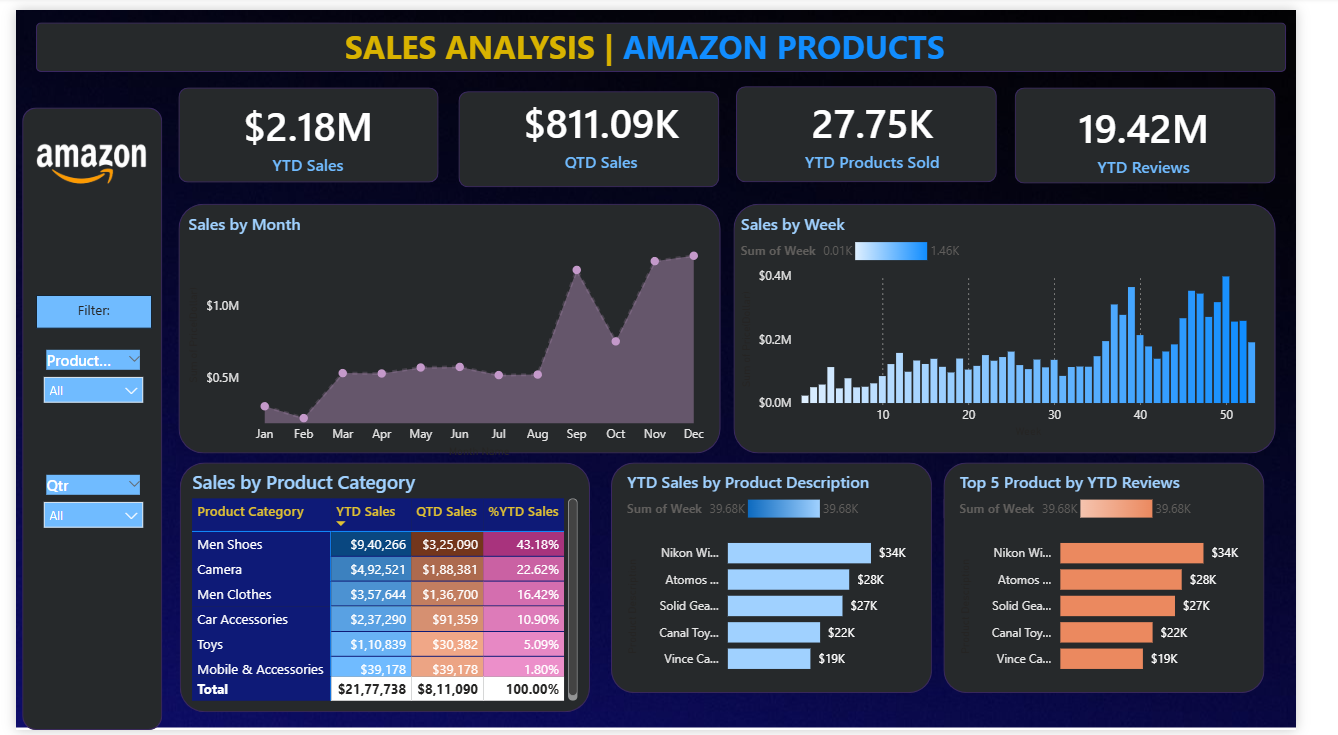

This screenshot's page, from the dashboard's own definition file:
{"tool":"powerbi","page":{"name":"Page 1","canvas":[1280,720],"ordinal":0},"visuals":[{"type":"shape","box":[20.6,12.3,1250.1,49.4],"z":0},{"type":"shape","box":[162.9,77.1,260,95],"z":1000,"group":"g1"},{"type":"textbox","box":[323.8,9.6,946.8,52.1],"z":1000},{"type":"shape","box":[442.4,80.8,260.7,96.1],"z":1500,"group":"g1"},{"type":"card","fields":{"Values":["Amazon_Data.YTD Sales"]},"box":[162.9,78.4,259.3,94.7],"z":2000,"group":"g1"},{"type":"shape","box":[6,97.7,139.9,622.5],"z":2000},{"type":"shape","box":[719.8,75.7,260.7,96.1],"z":3000,"group":"g1"},{"type":"group","id":"g1","title":"Group 1","box":[162.9,75.7,1097.1,100],"z":3000},{"type":"shape","box":[998.6,77.1,260.7,96.1],"z":4000,"group":"g1"},{"type":"shape","box":[161.9,193.5,542,249.7],"z":4000},{"type":"card","fields":{"Values":["Amazon_Data.QTD Sales"]},"box":[478.1,82.6,215.4,81],"z":5000,"group":"g1"},{"type":"areaChart","title":"Sales by Month","fields":{"Category":["date table.Month Name"],"Y":["Amazon_Data.Price(Dollar)"]},"box":[167.4,203.1,531,249.7],"z":5000},{"type":"card","fields":{"Values":["Amazon_Data.YTD Products Sold"]},"box":[749.3,82.6,215.4,81],"z":6000,"group":"g1"},{"type":"shape","box":[717.7,193.5,542,249.7],"z":6000},{"type":"card","fields":{"Values":["Amazon_Data.YTD Reviews"]},"box":[1020.5,86.7,215.4,81],"z":7000,"group":"g1"},{"type":"columnChart","title":"Sales by Week","fields":{"Category":["date table.Week"],"Y":["Amazon_Data.Price(Dollar)"]},"box":[720.4,203.1,528.3,230.5],"z":7000},{"type":"shape","box":[163.3,452.8,410.3,249.7],"z":8000},{"type":"pivotTable","title":"Sales by Product Category","fields":{"Rows":["Amazon_Data.Product Category"],"Values":["Amazon_Data.YTD Sales1","Amazon_Data.QTD Sales","Amazon_Data.YTD Sales"]},"box":[171.5,458.3,395.2,237.4],"z":9000},{"type":"shape","box":[595.5,452.8,321.1,230.5],"z":10000},{"type":"shape","box":[927.6,452.8,321.1,230.5],"z":11000},{"type":"barChart","fields":{"Category":["Amazon_Data.Product Description"],"Y":["Amazon_Data.YTD Sales"]},"box":[606.5,459.7,299.1,215.4],"z":12000},{"type":"barChart","title":"Top 5 Product by YTD Reviews","fields":{"Category":["Amazon_Data.Product Description"],"Y":["Amazon_Data.YTD Sales"]},"box":[938.6,459.7,299.1,215.4],"z":13000},{"type":"slicer","fields":{"Values":["Amazon_Data.Product Category"]},"box":[18.1,335.4,119.4,107.4],"z":14000},{"type":"slicer","fields":{"Values":["date table.Qtr"]},"box":[16.9,459.7,119.4,107.4],"z":15000},{"type":"textbox","box":[20.5,284.7,115.8,33.8],"z":16000},{"type":"image","box":[2.9,97.1,145.7,104.3],"z":17000}]}

Visuals, with their boxes in screenshot pixels (x1, y1, x2, y2), scaled from the page's 1280x720 canvas onto the 1338x735 screenshot:
shape: Rect(22, 13, 1328, 63)
shape: Rect(170, 79, 442, 176)
textbox: Rect(338, 10, 1328, 63)
shape: Rect(462, 82, 735, 181)
card - Amazon_Data.YTD Sales: Rect(170, 80, 441, 177)
shape: Rect(6, 100, 153, 734)
shape: Rect(752, 77, 1025, 175)
"Group 1" group: Rect(170, 77, 1317, 179)
shape: Rect(1044, 79, 1316, 177)
shape: Rect(169, 198, 736, 452)
card - Amazon_Data.QTD Sales: Rect(500, 84, 725, 167)
"Sales by Month" areaChart: Rect(175, 207, 730, 462)
card - Amazon_Data.YTD Products Sold: Rect(783, 84, 1008, 167)
shape: Rect(750, 198, 1317, 452)
card - Amazon_Data.YTD Reviews: Rect(1067, 89, 1292, 171)
"Sales by Week" columnChart: Rect(753, 207, 1305, 443)
shape: Rect(171, 462, 600, 717)
"Sales by Product Category" pivotTable: Rect(179, 468, 592, 710)
shape: Rect(622, 462, 958, 698)
shape: Rect(970, 462, 1305, 698)
barChart - Amazon_Data.Product Description x Amazon_Data.YTD Sales: Rect(634, 469, 947, 689)
"Top 5 Product by YTD Reviews" barChart: Rect(981, 469, 1294, 689)
slicer - Amazon_Data.Product Category: Rect(19, 342, 144, 452)
slicer - date table.Qtr: Rect(18, 469, 142, 579)
textbox: Rect(21, 291, 142, 325)
image: Rect(3, 99, 155, 206)
